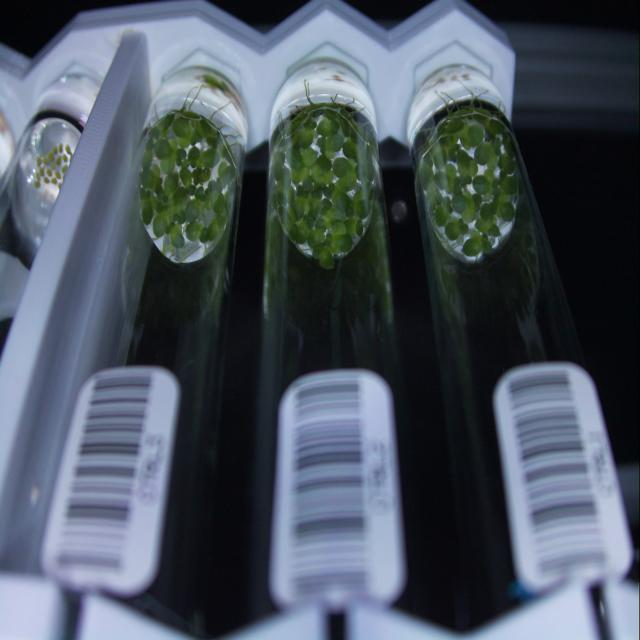Lemna-Gibba: (452, 148, 479, 193), (286, 147, 318, 183), (474, 142, 499, 183), (451, 190, 482, 223), (290, 110, 316, 148), (438, 117, 469, 147), (432, 135, 458, 170), (434, 163, 461, 193), (285, 213, 311, 243), (272, 150, 291, 191), (195, 118, 220, 149), (310, 153, 334, 185), (422, 175, 439, 218), (296, 180, 329, 202), (214, 160, 236, 192), (459, 122, 484, 150), (204, 180, 225, 213), (169, 187, 188, 223), (185, 187, 205, 221), (270, 122, 291, 153), (318, 128, 344, 153), (141, 128, 156, 170), (312, 243, 334, 269), (445, 217, 469, 240), (496, 193, 515, 222), (308, 198, 325, 230), (140, 163, 160, 190), (199, 218, 220, 243), (276, 190, 290, 227), (349, 103, 366, 133), (331, 233, 354, 255), (151, 113, 174, 135), (172, 117, 192, 142), (462, 233, 482, 257), (288, 198, 308, 222), (214, 197, 229, 228), (185, 220, 206, 242), (476, 218, 500, 237), (336, 193, 355, 217), (325, 182, 344, 206), (141, 188, 158, 213), (420, 152, 434, 182), (335, 172, 356, 192), (498, 152, 516, 175), (156, 190, 174, 213), (159, 138, 179, 158), (332, 157, 351, 178), (300, 103, 328, 117), (319, 245, 335, 269), (152, 213, 168, 237), (486, 118, 505, 138), (172, 115, 191, 135), (170, 223, 185, 248), (324, 205, 346, 222), (155, 138, 172, 160), (189, 120, 205, 143), (480, 200, 498, 220), (336, 113, 351, 137), (501, 175, 518, 195), (472, 175, 489, 195), (308, 228, 325, 248), (342, 138, 358, 159), (325, 102, 346, 118), (192, 168, 211, 185), (316, 117, 332, 137), (502, 133, 514, 159), (435, 205, 449, 227), (356, 198, 370, 220), (141, 198, 152, 225), (490, 178, 502, 202), (330, 220, 346, 238), (152, 212, 170, 228), (468, 113, 491, 125), (345, 217, 358, 237), (179, 167, 192, 187), (441, 197, 458, 212), (429, 127, 441, 147), (315, 217, 331, 232), (162, 173, 178, 188), (490, 135, 501, 156), (481, 233, 492, 253), (284, 185, 296, 203), (320, 198, 332, 215), (458, 103, 475, 113), (211, 150, 221, 167), (484, 168, 495, 183), (139, 187, 149, 203), (309, 177, 319, 192), (356, 220, 364, 237), (324, 228, 330, 243), (165, 210, 172, 222), (498, 172, 506, 182), (168, 127, 174, 138), (179, 140, 188, 147), (156, 177, 162, 187), (345, 187, 352, 190)
